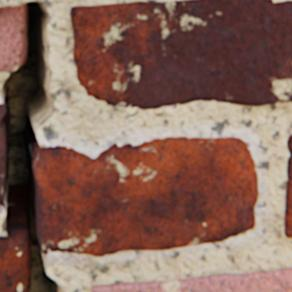brick: (70, 0, 291, 108), (91, 266, 291, 291), (0, 3, 26, 71), (0, 234, 27, 291), (283, 134, 291, 236)
broken_brick: (33, 136, 256, 255), (0, 128, 5, 204), (0, 103, 5, 119)
crack: (0, 1, 61, 291)
